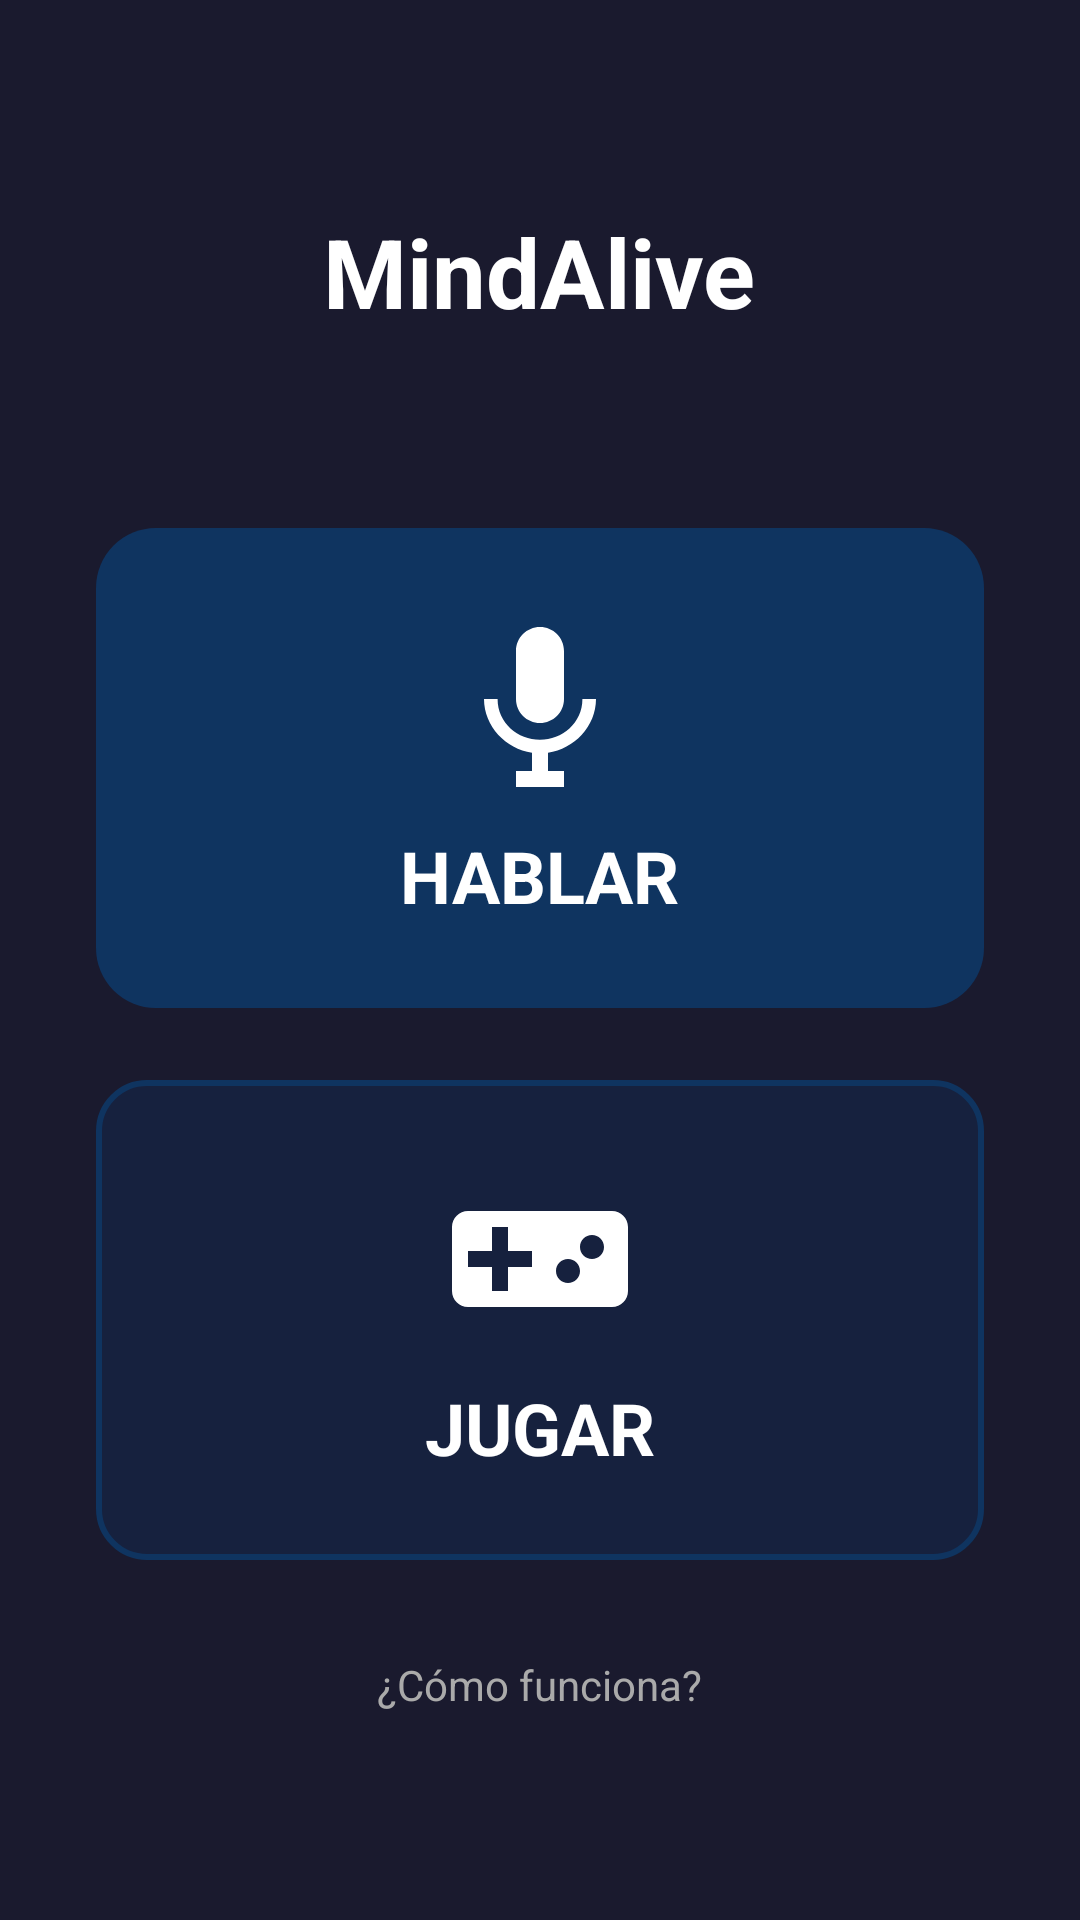

Named icons in this screenshot (1080x1920) and their bounding boxes, (x1, y1, x2, y2):
juegos: (452, 1211, 628, 1307)
microfono: (484, 627, 596, 787)
